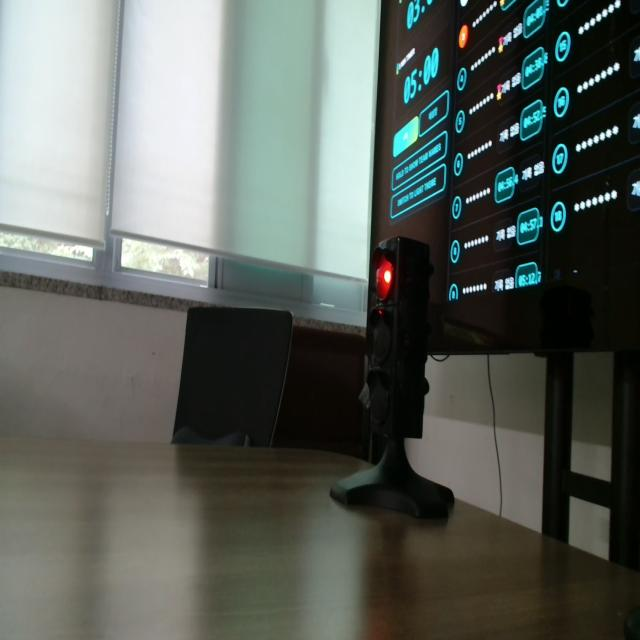red_light: (377, 255, 392, 300), (384, 270, 391, 283)
